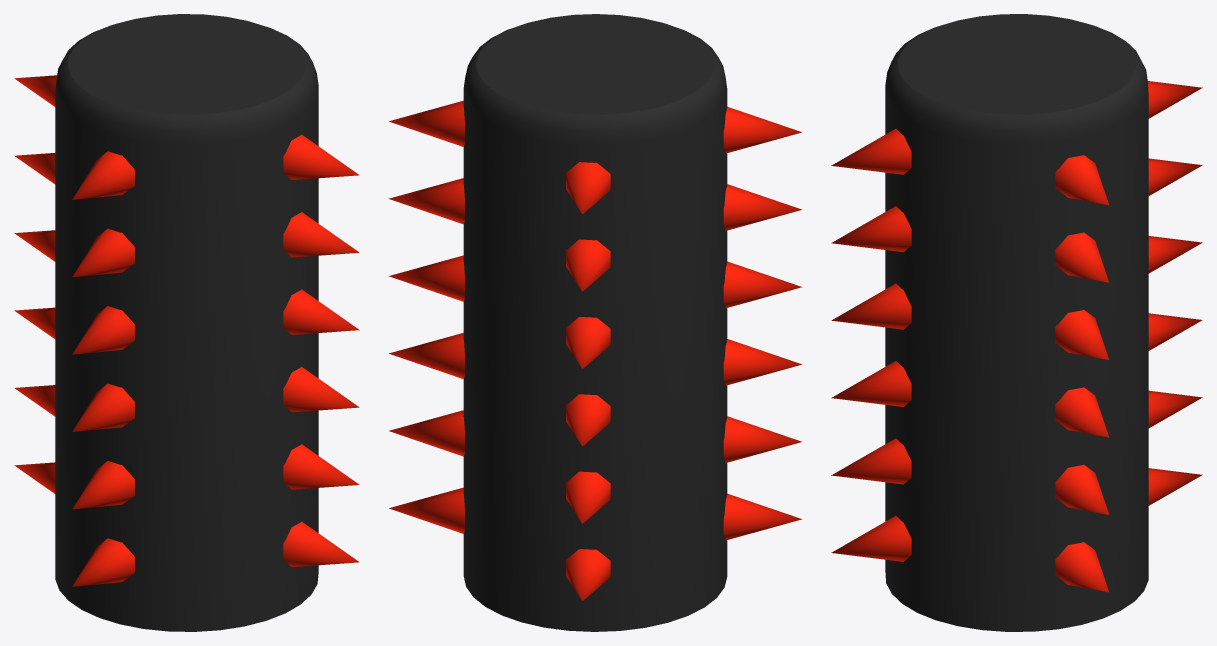
The model's file is HyperObstaclesSketchfab.fbx.
3 renders of one model, left to right at view 1: azimuth 30°, elevation 25°; view 2: azimuth 150°, elevation 25°; view 3: azimuth 270°, elevation 25°, orthographic.
Parts seen in each view (by area): view 1: CylinderObstacle.003, CylinderObstacle; view 2: CylinderObstacle.003, CylinderObstacle; view 3: CylinderObstacle.003, CylinderObstacle.
Boxes of the visible parts, x1,y1,x2,y2 form: CylinderObstacle.003: [55, 14, 318, 631]; CylinderObstacle: [14, 75, 359, 586]; CylinderObstacle.003: [463, 14, 727, 631]; CylinderObstacle: [388, 100, 802, 600]; CylinderObstacle.003: [885, 14, 1148, 631]; CylinderObstacle: [831, 81, 1202, 592].
Bounding box in the file's own units: 180 × 273 × 180.
